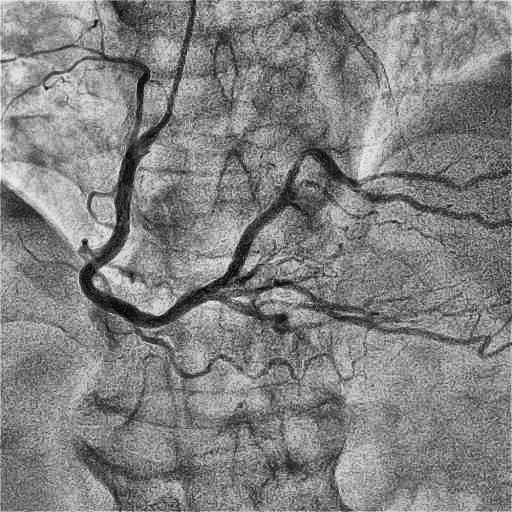pborca: (207, 148, 505, 293)
pda: (214, 295, 293, 334)
rca: (79, 148, 213, 328)
